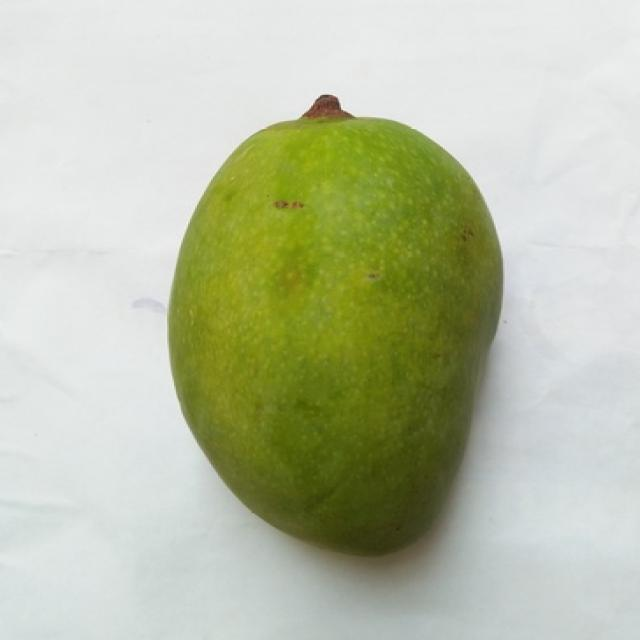Mango: (169, 96, 501, 555)
